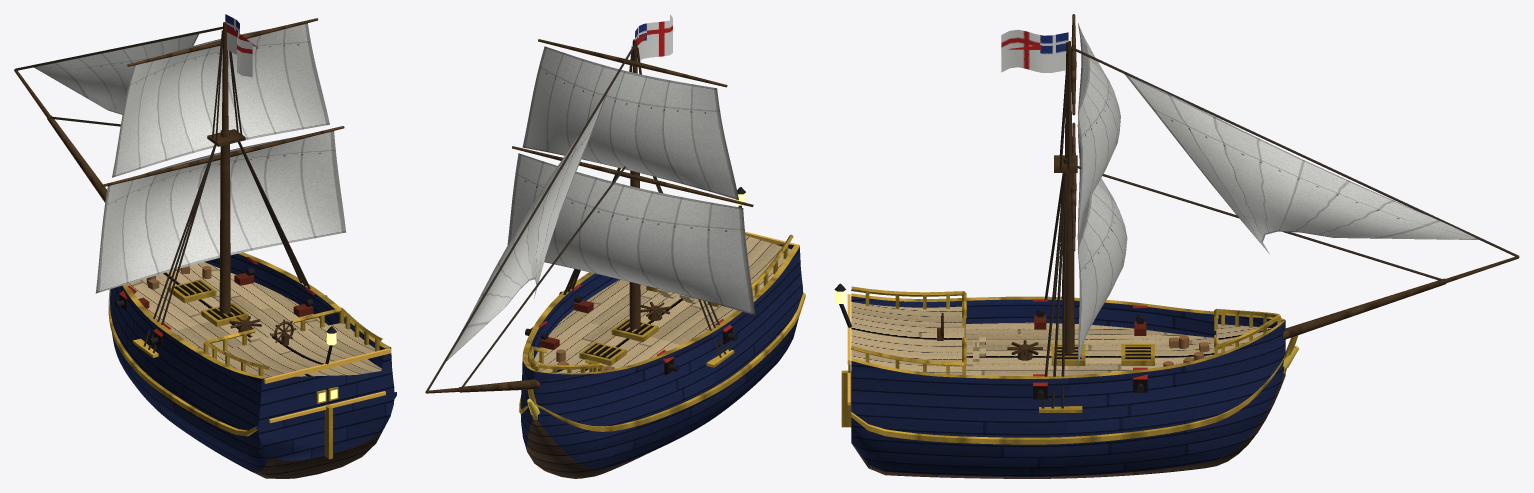
Rendered from navy_sloop.glb.
3 renders of one model, left to right at view 1: azimuth 30°, elevation 25°; view 2: azimuth 150°, elevation 25°; view 3: azimuth 270°, elevation 25°, orthographic. The views are drawn at different scales.
Parts seen in each view (by area): view 1: Hull, Sail0_0, Sail0_1, Rigging, Jib, Flag, Guns0; view 2: Hull, Sail0_0, Sail0_1, Jib, Rigging, Flag, Guns0; view 3: Hull, Jib, Rigging, Sail0_0, Sail0_1, Flag.
Part boxes in pixels (<box>): Hull: <box>108,252,396,478</box>; Sail0_0: <box>95,131,346,293</box>; Sail0_1: <box>112,23,329,177</box>; Rigging: <box>14,18,344,353</box>; Jib: <box>34,34,198,114</box>; Flag: <box>225,14,252,77</box>; Guns0: <box>114,268,327,344</box>; Hull: <box>519,187,805,478</box>; Sail0_0: <box>507,153,754,314</box>; Sail0_1: <box>522,46,738,200</box>; Jib: <box>446,93,607,361</box>; Rigging: <box>425,33,753,393</box>; Flag: <box>635,14,672,61</box>; Guns0: <box>525,291,737,371</box>; Hull: <box>834,283,1299,478</box>; Jib: <box>1124,74,1479,253</box>; Rigging: <box>1007,14,1519,408</box>; Sail0_0: <box>1077,164,1127,367</box>; Sail0_1: <box>1077,23,1120,239</box>; Flag: <box>1001,29,1068,72</box>.
Size of the model in its own units: 1.18 by 1.79 by 2.6.
20 materials, 8 textured.
